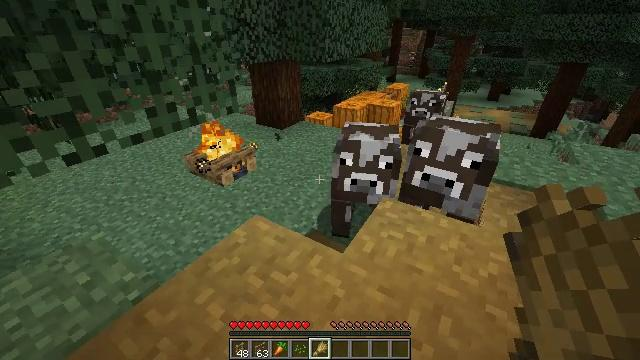cow: (403, 120, 502, 226), (332, 121, 401, 238), (404, 91, 447, 150)
